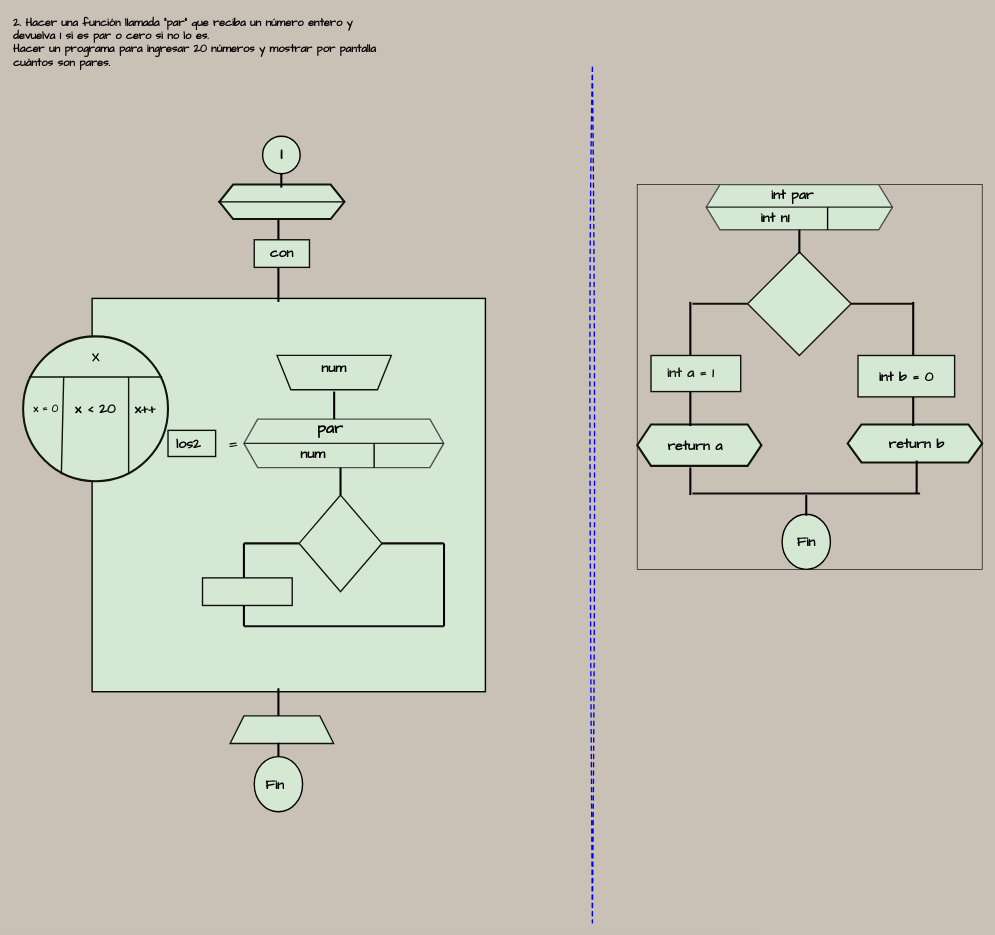
This 995x935 diagram has some shape labels left out. Here are the shapes that lost their labels. From the top down, the centre of each, then its label:
(281,201): void main
(799,303): n1 % 2 == 0
(340,543): los2 == 1
(247,591): con++
(281,729): " con "
